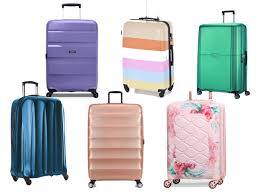suitcase: (12, 81, 71, 186), (165, 93, 227, 191), (87, 92, 146, 190), (44, 2, 102, 99), (194, 8, 247, 101), (119, 15, 178, 98)
